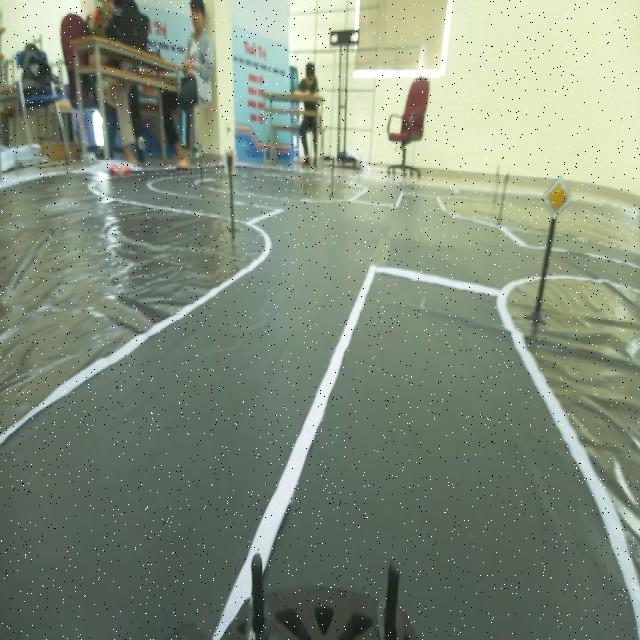priority: (542, 167, 574, 226)
